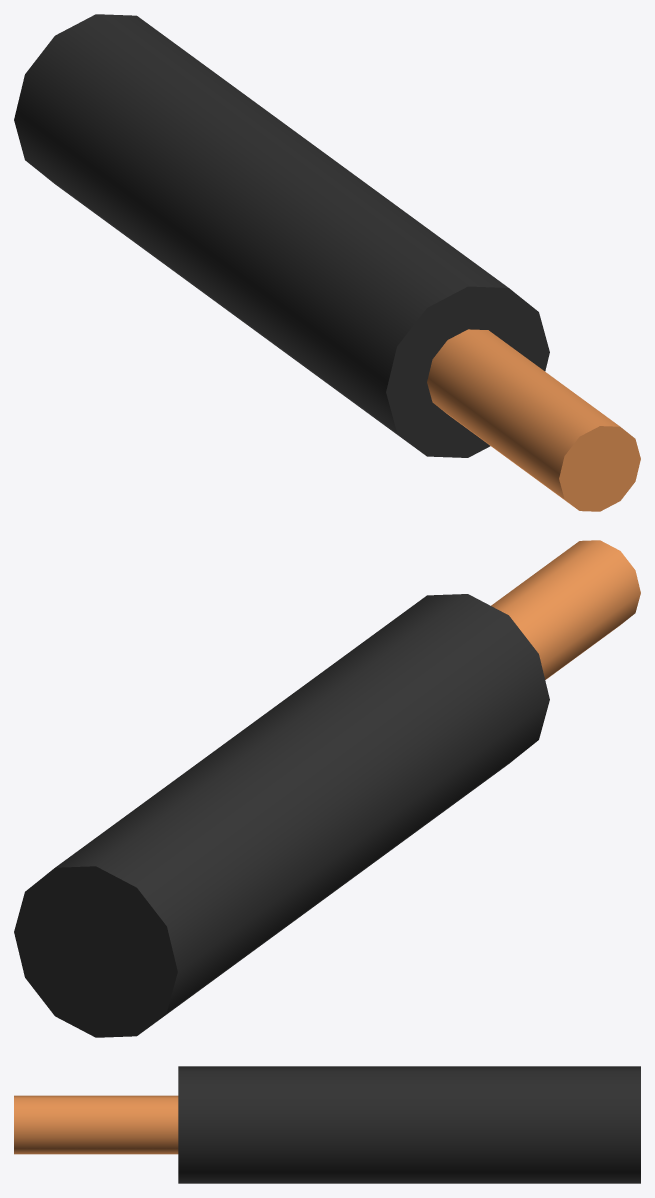
Rendered from Wire_E_T.fbx.
3 views of the same model, one above another, from view 1: azimuth 30°, elevation 25°; view 2: azimuth 150°, elevation 25°; view 3: azimuth 270°, elevation 25° (orthographic). The views are drawn at different scales.
Parts seen in each view (by area): view 1: Wire_E_T; view 2: Wire_E_T; view 3: Wire_E_T.
Part boxes in pixels (x1,y1,x2,y2): Wire_E_T: [14, 14, 640, 511]; Wire_E_T: [14, 540, 640, 1037]; Wire_E_T: [14, 1066, 640, 1183].
Bounding box in the file's own units: 8 × 8 × 42.61.
